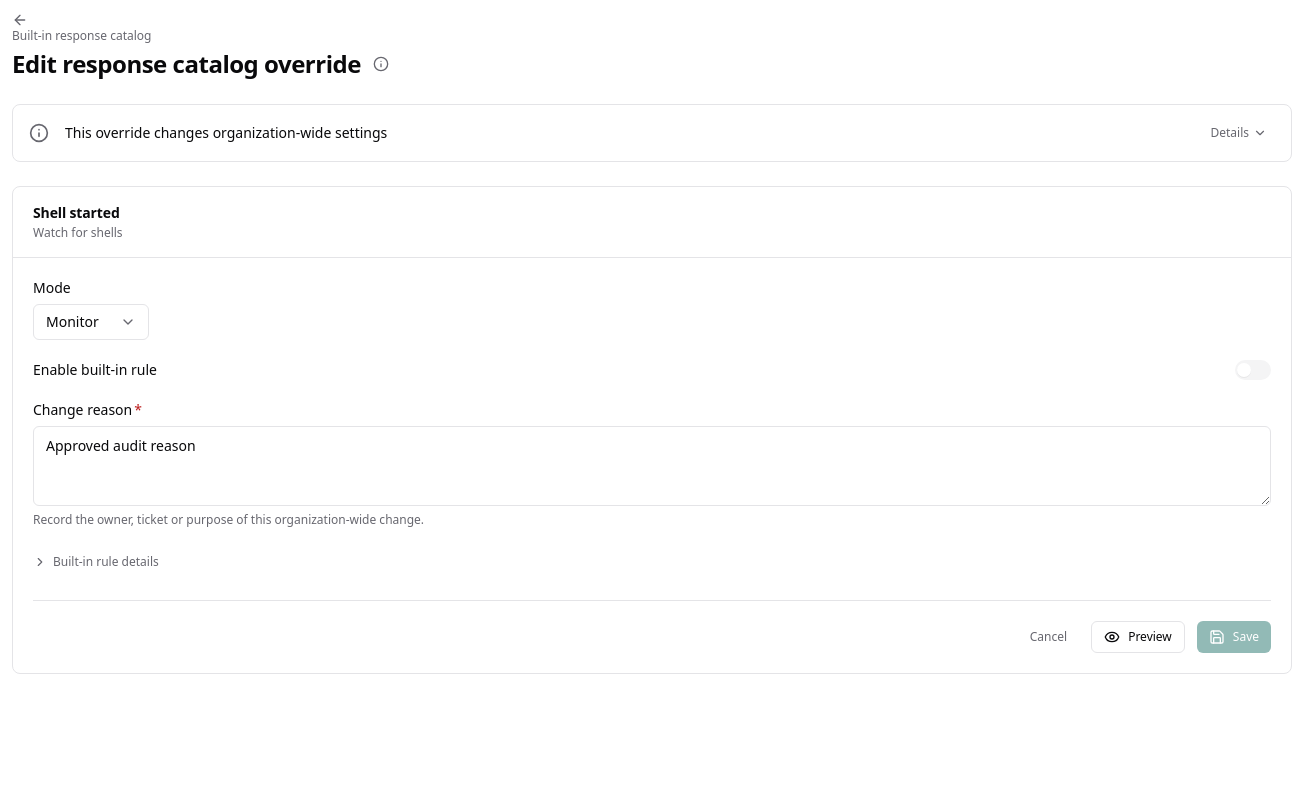
Scenario: rejects a wrong-rule preview response
Click the button "Preview".
click(1138, 637)  # box x1=1091 y1=621 x2=1185 y2=653
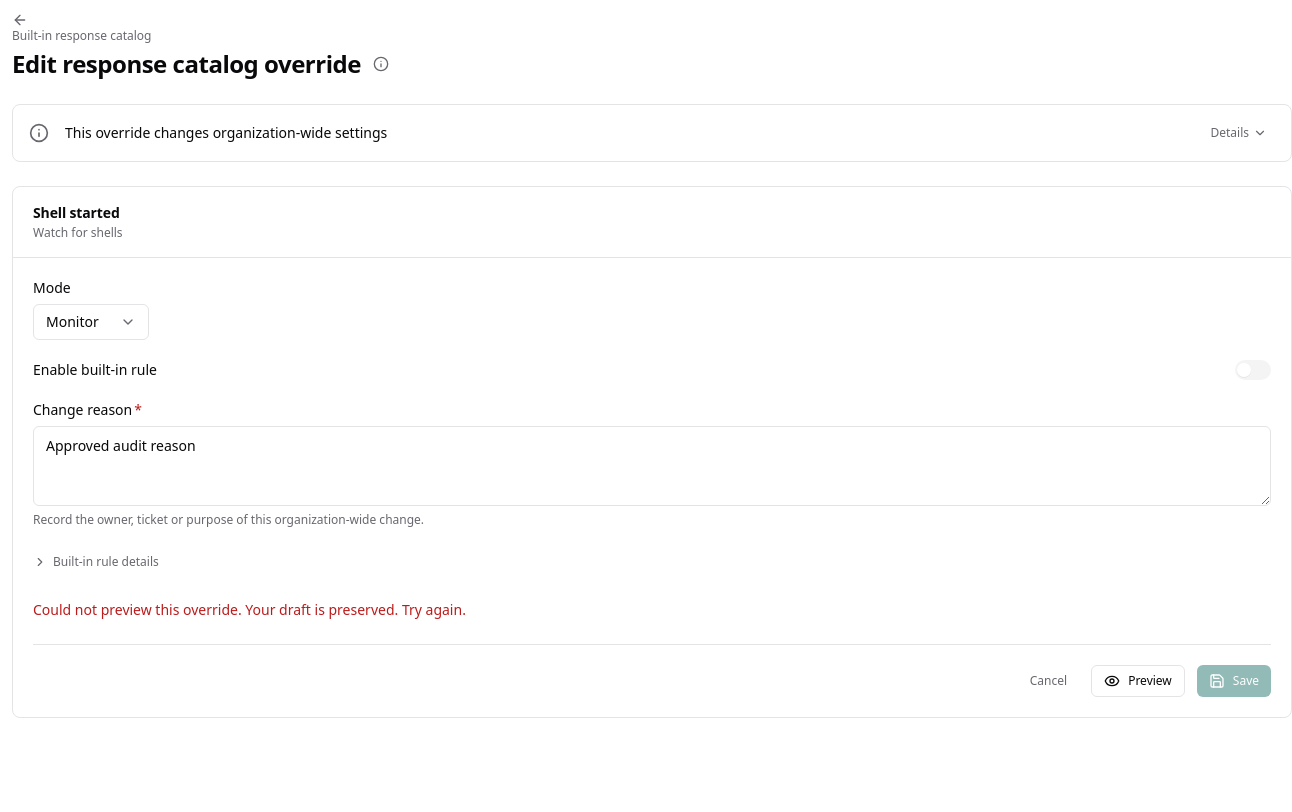
Expected: the button "Save" is disabled, x1=1197 y1=665 x2=1271 y2=697
Expected: the text "Could not preview this override. Your draft is preserved" is shown, x1=33 y1=600 x2=466 y2=619
